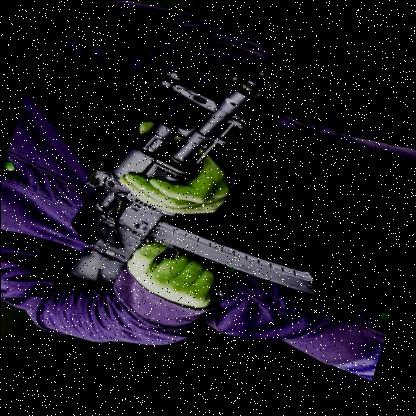rifle: (43, 27, 388, 360)
